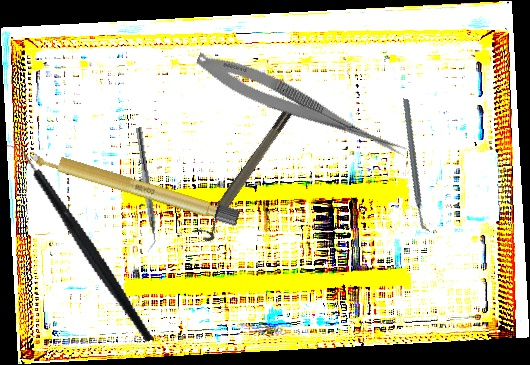Chopper: (1, 121, 155, 365), (370, 98, 463, 232), (126, 127, 162, 252)
Fixation Ring: (192, 101, 304, 245)
Micro Scissor: (190, 45, 414, 165)
Scalpel Handle: (25, 145, 242, 227)
